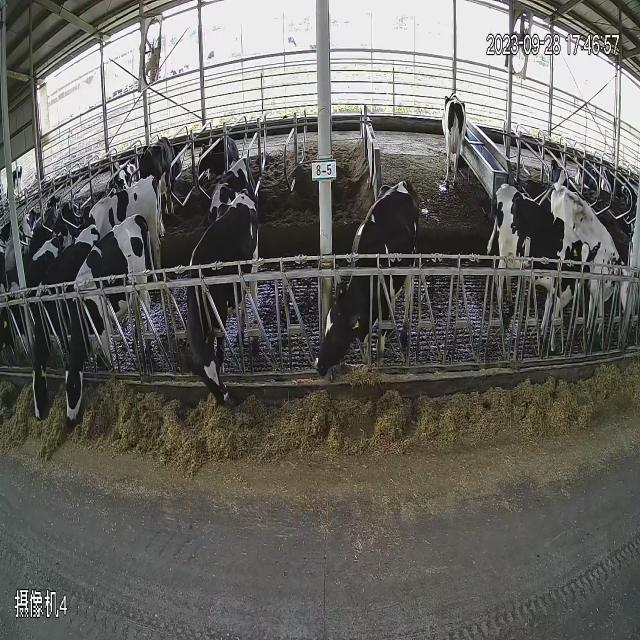drinking: (436, 67, 476, 216)
feeding: (17, 211, 157, 453)
lying down: (573, 123, 631, 205), (194, 112, 240, 184), (102, 130, 140, 189)
standing: (2, 184, 180, 284), (430, 52, 484, 198)
